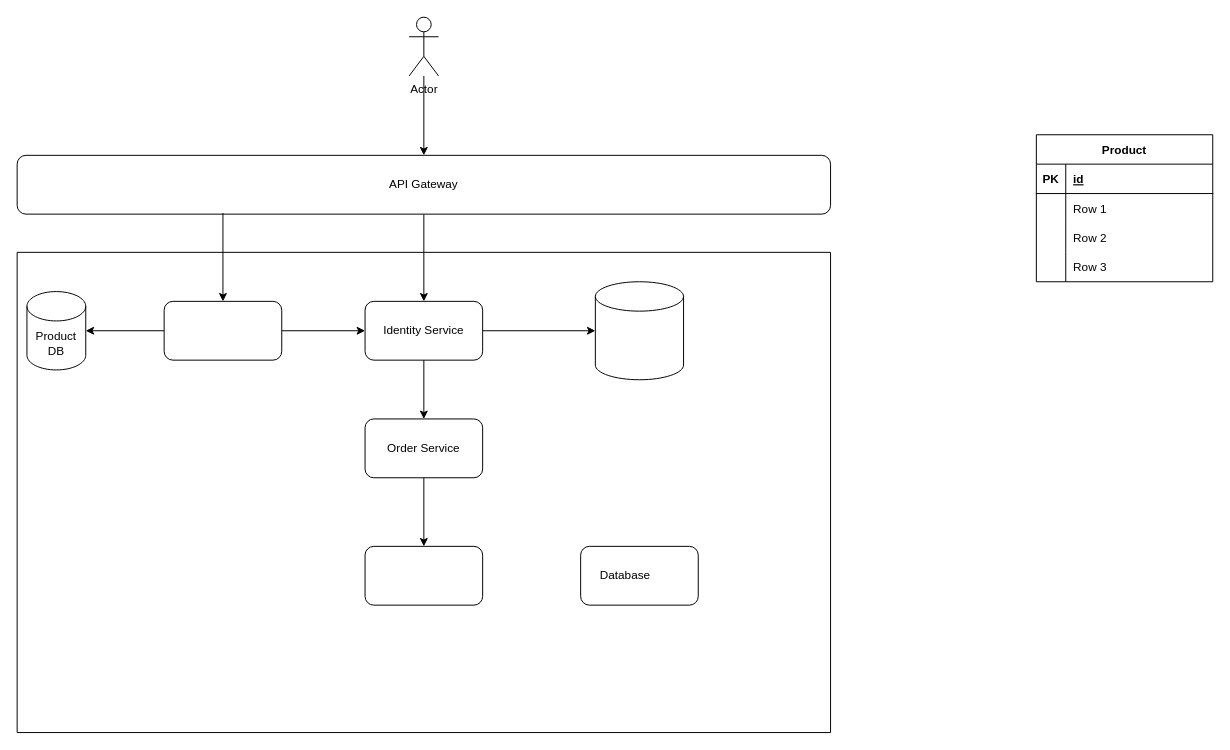
Image size: 1230x750. Some labels were removed from this diagram. Each missing label, with the box of its shape:
Identity DB (MYSQL): (594, 281, 684, 380)
Payment Service: (364, 545, 483, 605)
Product Service: (163, 300, 282, 360)
